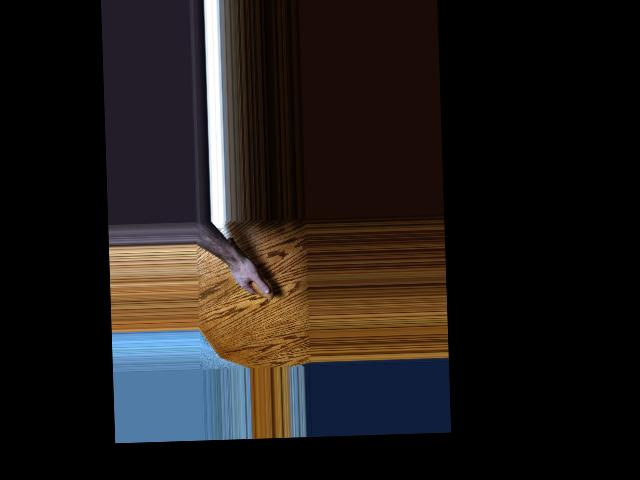sweet_potato: (226, 234, 274, 300)
